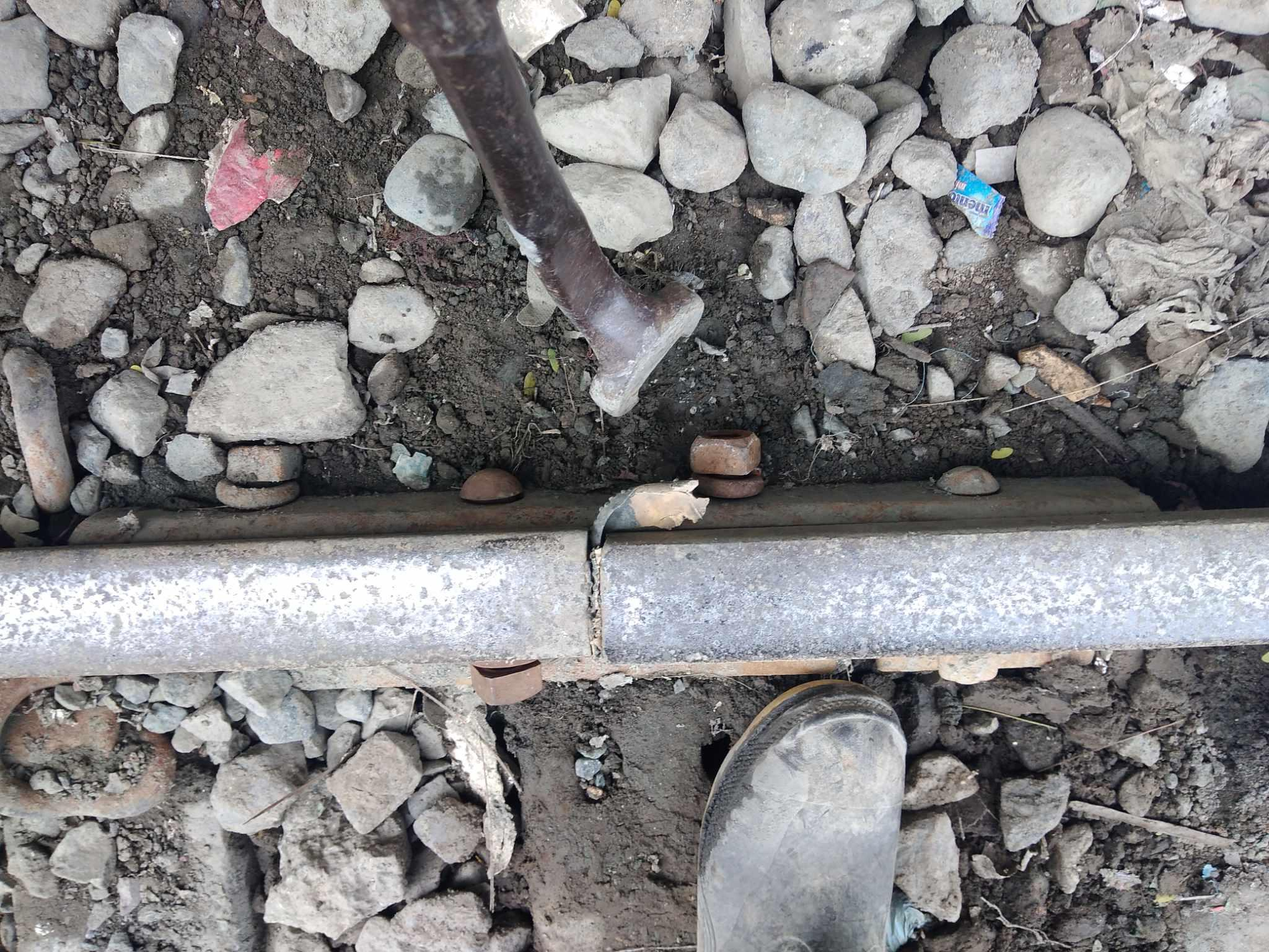railway-gap: (493, 500, 690, 705)
